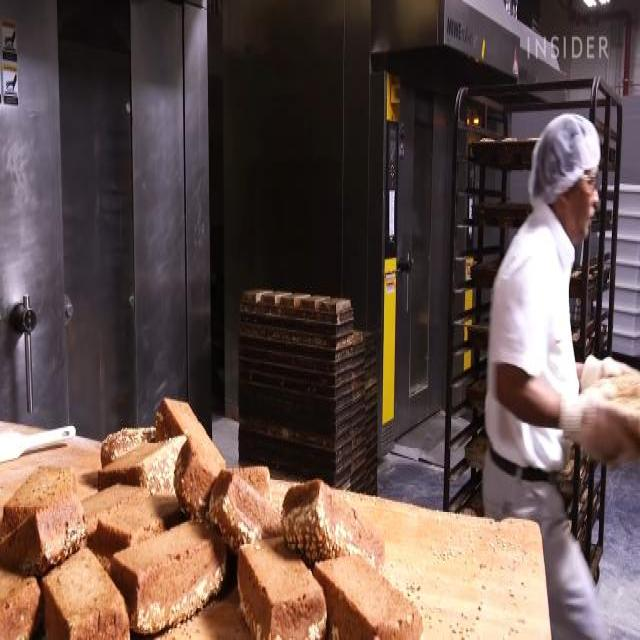hairnet: (531, 114, 600, 182)
